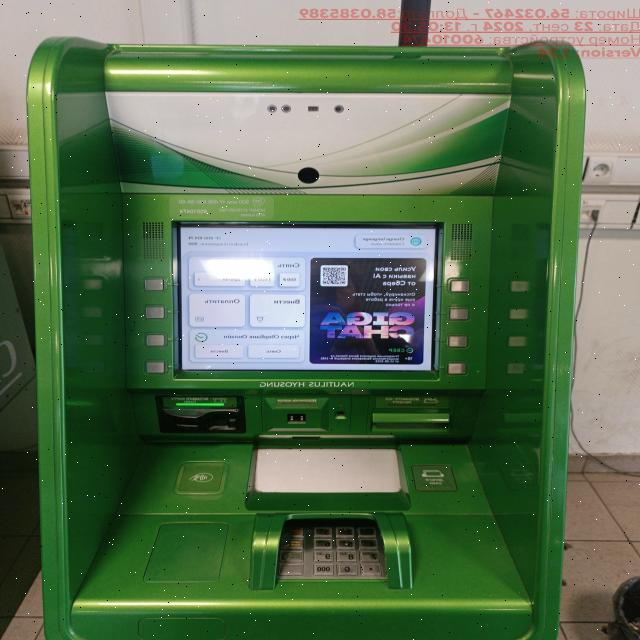bank: (28, 41, 586, 640)
